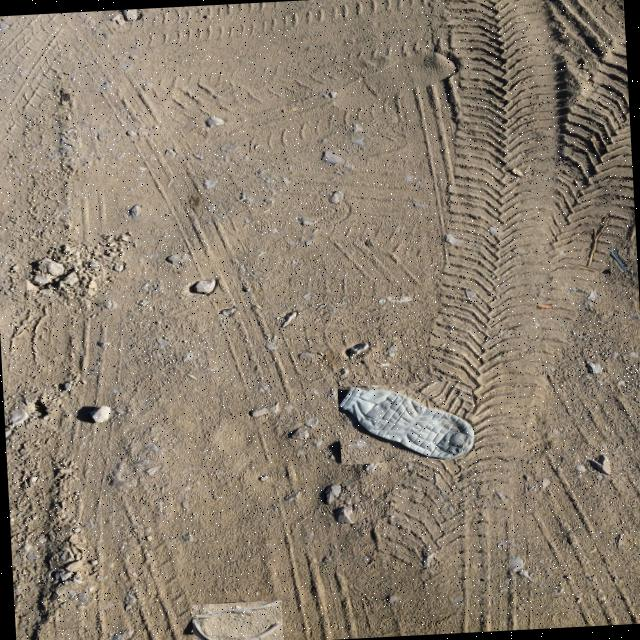Cigarette: (537, 305, 553, 309)
Clear plastic bottle: (340, 387, 475, 459)
Other plastic bottle: (193, 601, 282, 640), (244, 623, 280, 640), (610, 248, 627, 272)
